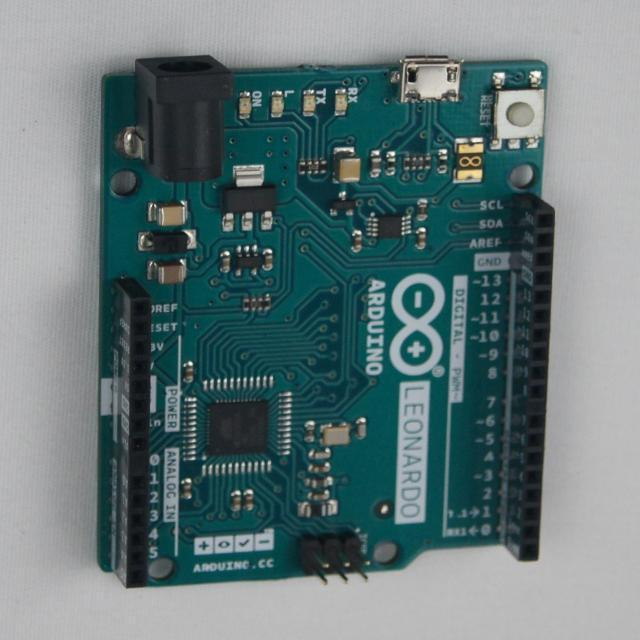Arduino-leonardo: (98, 57, 555, 588)
